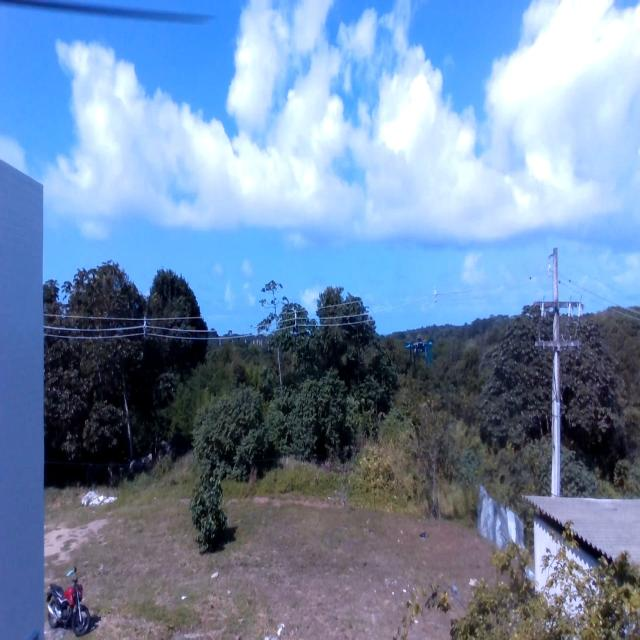-uav-: (403, 334, 444, 390)
